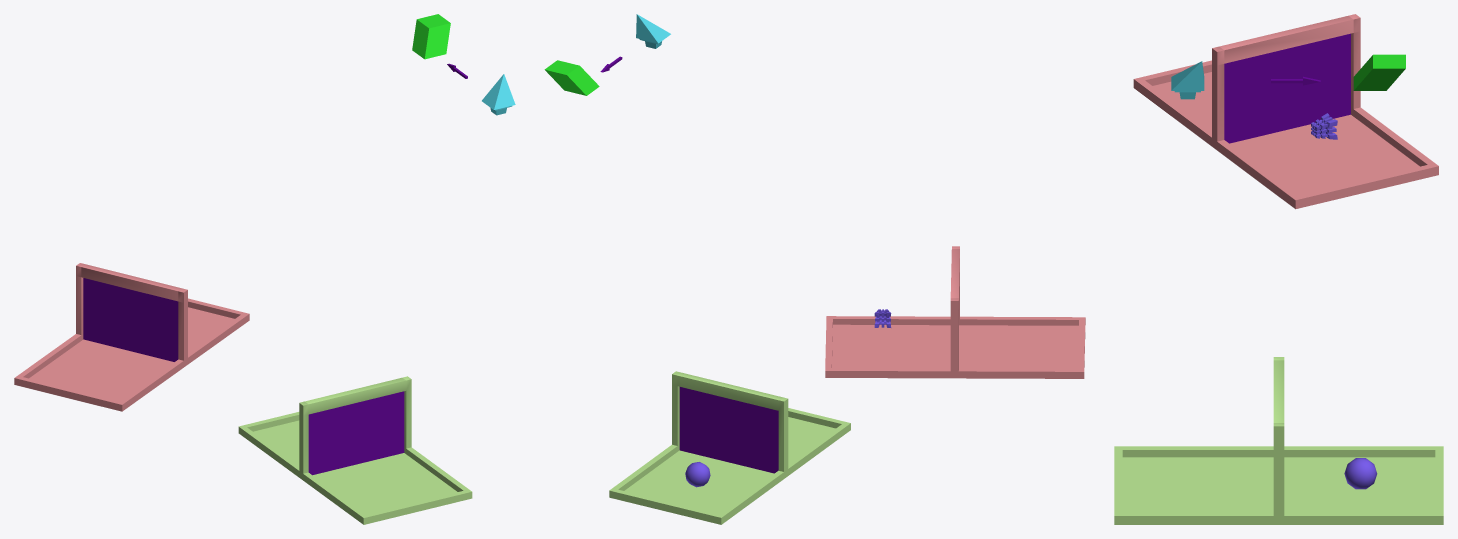
The model's file is gl_separate.gltf.
The picture shows the model from 3 angles, left to right: view 1: azimuth 30°, elevation 25°; view 2: azimuth 150°, elevation 25°; view 3: azimuth 270°, elevation 25°; orthographic projection. The views are drawn at different scales.
Visible parts, largest first — view 1: floor2, floor1, portal2, portal1, Cube, Cube.001; view 2: floor2, floor1, portal2, Cube, Cube.001; view 3: floor1, floor2, portal1, Cube, Cube.001, item3, item1.
Part boxes in pixels (x1,y1,x2,y2): floor2: (14, 263, 249, 411); floor1: (238, 376, 472, 524); portal2: (308, 391, 404, 475); portal1: (83, 278, 178, 361); Cube: (412, 14, 450, 59); Cube.001: (482, 74, 515, 115); floor2: (825, 246, 1085, 378); floor1: (609, 371, 850, 524); portal2: (679, 387, 778, 473); Cube: (544, 60, 599, 95); Cube.001: (636, 14, 670, 48); floor1: (1114, 357, 1443, 524); floor2: (1133, 14, 1438, 209); portal1: (1224, 33, 1350, 143); Cube: (1353, 54, 1405, 90); Cube.001: (1171, 61, 1204, 99); item3: (1344, 458, 1377, 489); item1: (1311, 113, 1337, 139).
Size of the model in its own units: 43.61 by 33.88 by 20.
